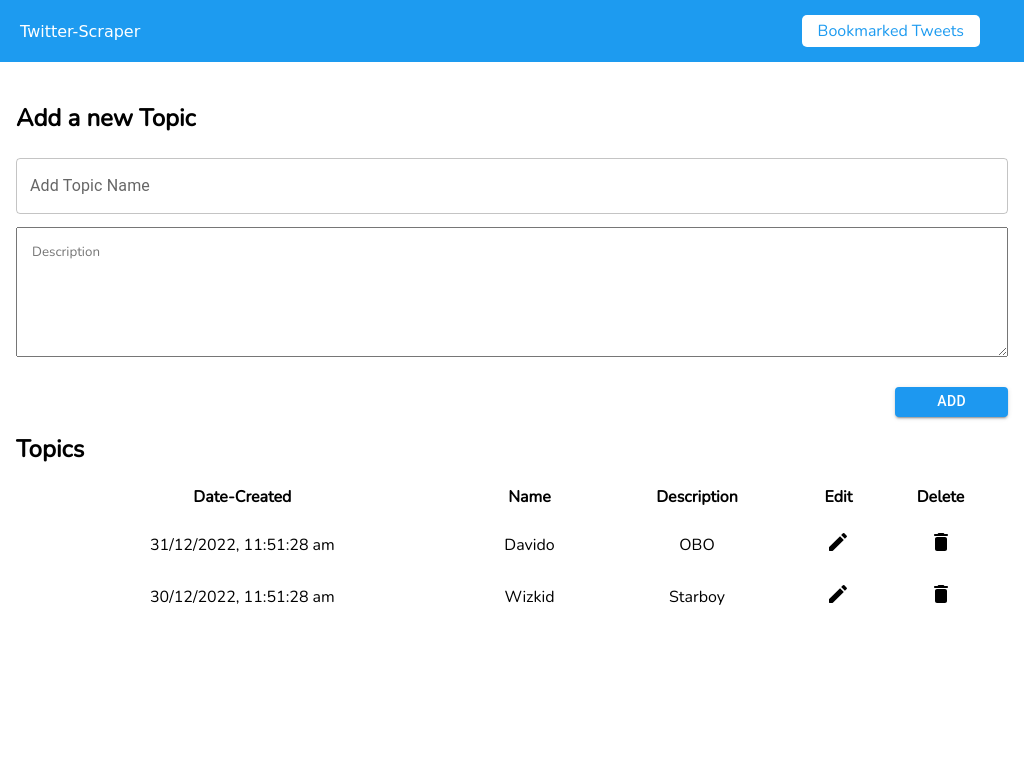
test for TopicsPage › should delete an existing topic on the list
Step 1. Click the cell with test id "deleteTableItemBtn-1" → (941, 545), box [883, 529, 998, 561]
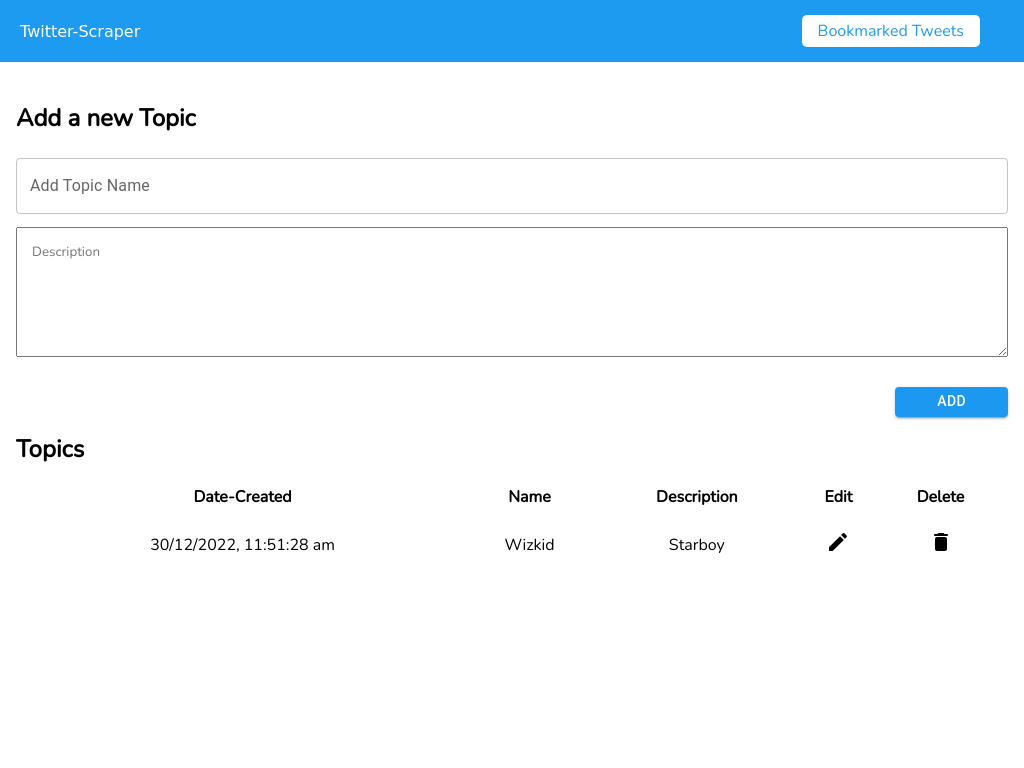
Expected: the number of rows with test id "tableItems" is 1, [26, 529, 998, 561]
